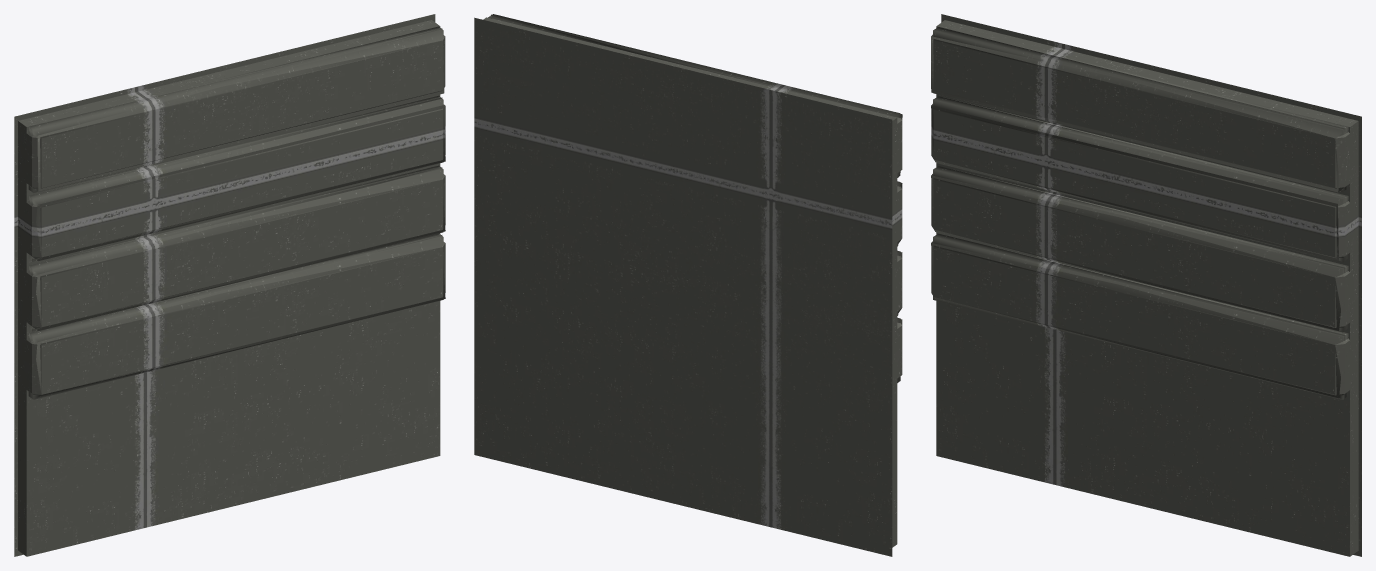
The model's file is sm_skyscraper_module17.glb.
3 views of the same model, side by side, from view 1: azimuth 30°, elevation 25°; view 2: azimuth 150°, elevation 25°; view 3: azimuth 330°, elevation 25° (orthographic).
Parts seen in each view (by area): view 1: sm_skyscraper_module17_00; view 2: sm_skyscraper_module17_00; view 3: sm_skyscraper_module17_00.
Part boxes in pixels (x1=…): sm_skyscraper_module17_00: x1=14, y1=14, x2=445, y2=556; sm_skyscraper_module17_00: x1=474, y1=14, x2=902, y2=556; sm_skyscraper_module17_00: x1=931, y1=14, x2=1361, y2=556.
Bounding box in the file's own units: 6 × 6 × 0.4256.
Materials: 1 (1 with a texture image).
